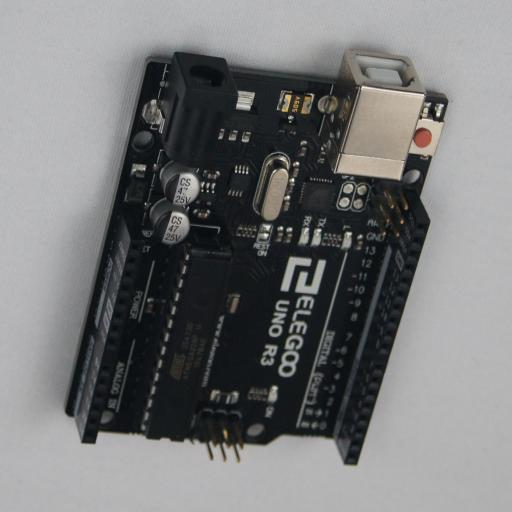Arduino Uno -Black-: (64, 51, 448, 465)
